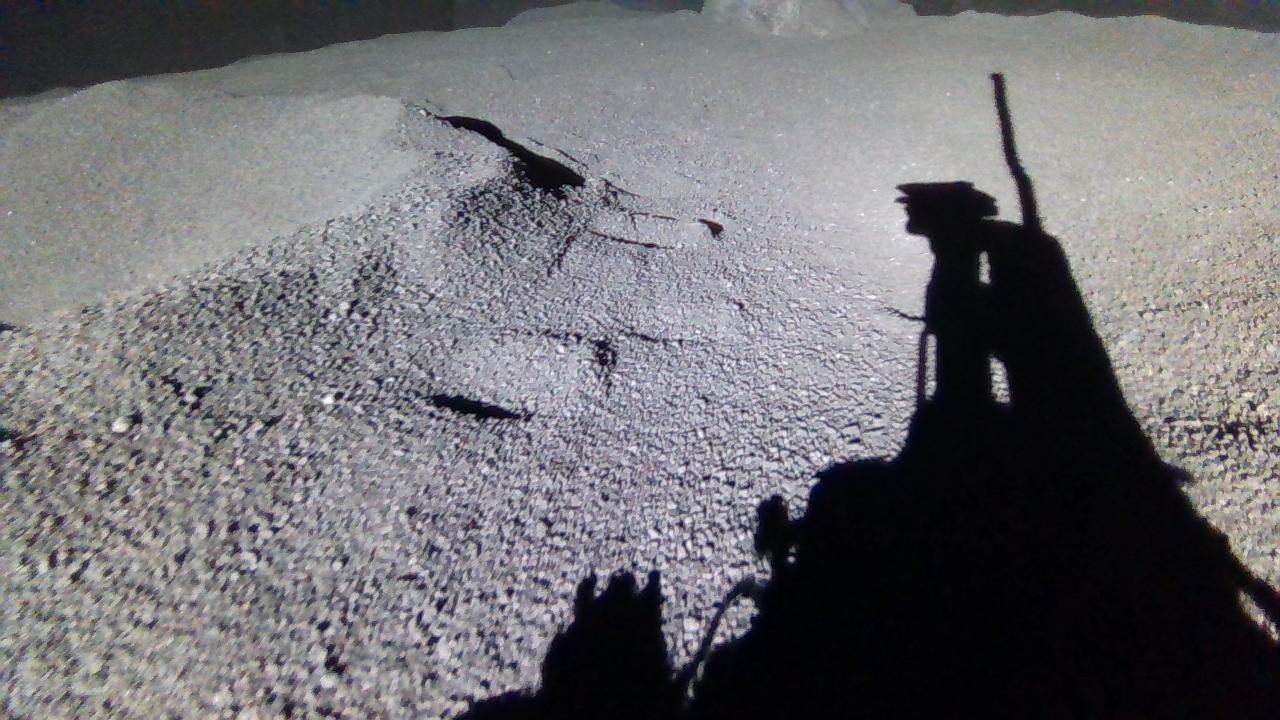rock: (702, 0, 919, 35)
